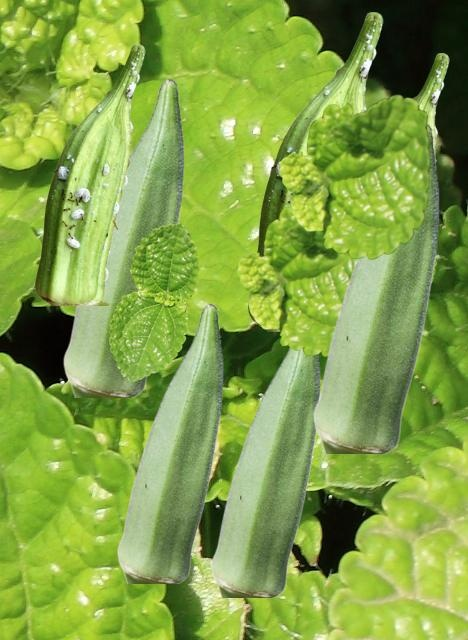okra: (248, 12, 382, 330), (313, 122, 438, 452), (63, 78, 183, 396), (117, 303, 222, 582), (35, 44, 144, 304), (211, 346, 319, 596), (413, 53, 448, 161)
